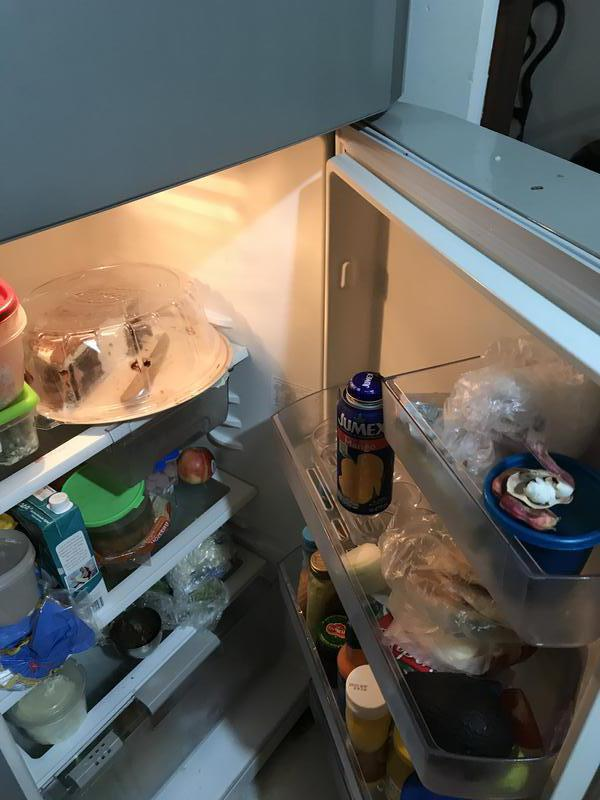jugo_jumex: (336, 370, 392, 517)
